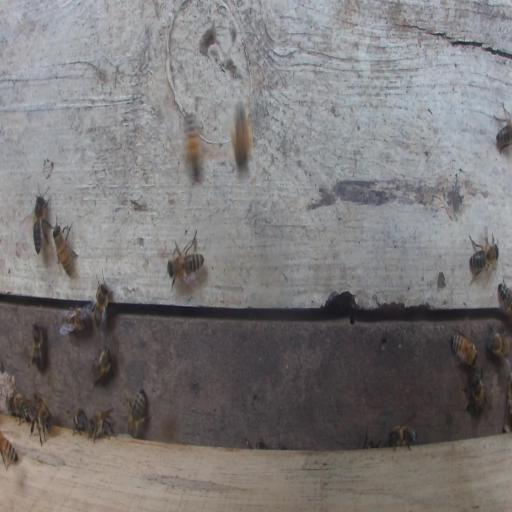bee: (166, 229, 205, 289), (230, 102, 252, 170), (52, 223, 77, 278), (183, 114, 203, 182), (124, 387, 147, 439), (92, 276, 111, 335), (32, 392, 53, 445), (467, 368, 490, 416), (450, 329, 479, 367), (59, 303, 93, 334), (88, 408, 115, 443), (487, 325, 511, 361), (91, 345, 113, 384), (387, 425, 419, 451), (0, 430, 19, 472), (9, 391, 31, 424), (468, 245, 499, 268), (33, 196, 44, 256), (497, 279, 512, 319), (33, 321, 43, 372), (73, 408, 88, 435), (495, 125, 512, 145)
